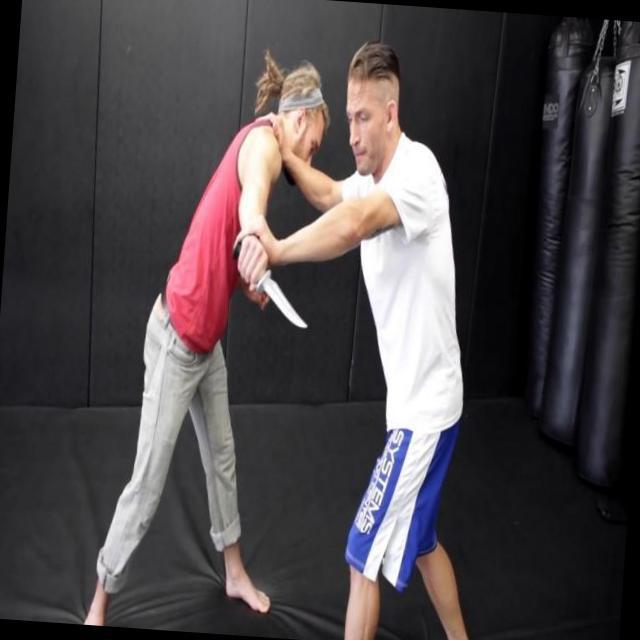Knife: (221, 224, 318, 337)
